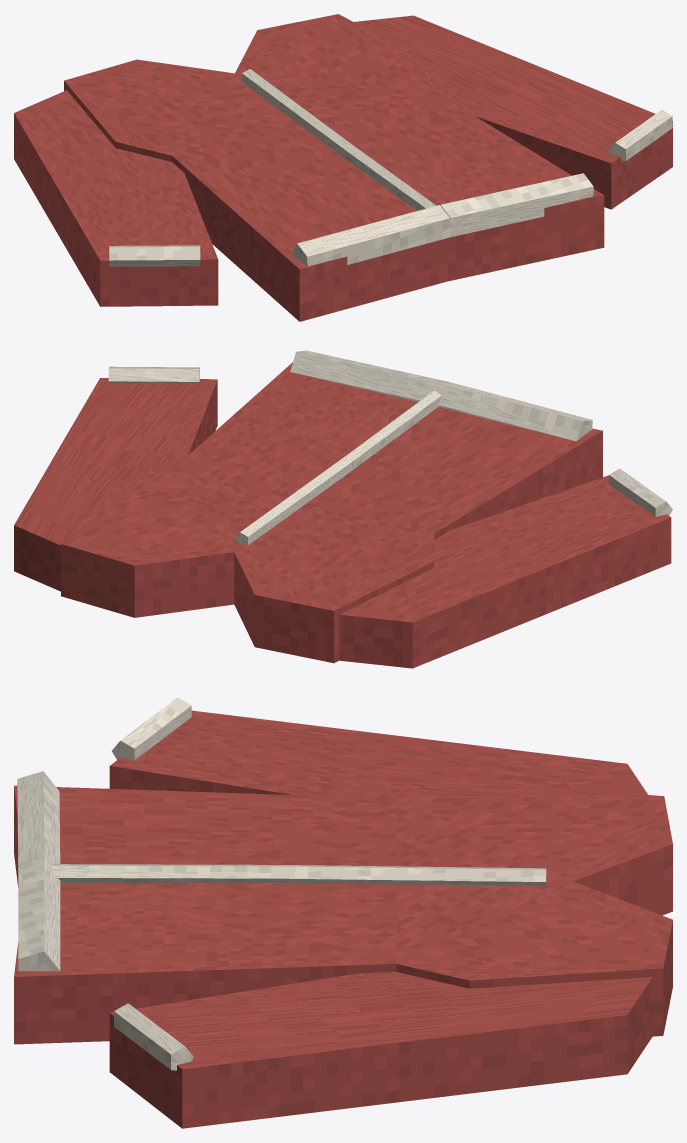
The model's file is santa_jacket.glb.
3 views of the same model, one above another, from view 1: azimuth 30°, elevation 25°; view 2: azimuth 150°, elevation 25°; view 3: azimuth 270°, elevation 25° (orthographic). The views are drawn at different scales.
Parts seen in each view (by area): view 1: block_garment body, block_sleeve (×2), block_hem trim 0, block_hem trim 1, block_cuff 0 (×2), block_front closure 0, block_front closure 1; view 2: block_garment body, block_sleeve (×2), block_hem trim 0, block_hem trim 1, block_cuff 0 (×2), block_front closure 0, block_front closure 1; view 3: block_garment body, block_sleeve (×2), block_front closure 0, block_hem trim 1, block_front closure 1, block_cuff 0 (×2), block_hem trim 0.
Boxes of the visible parts, left/top/right/bottom form: block_garment body: left=64, top=14, right=604, bottom=321; block_sleeve (×2): left=14, top=15, right=672, bottom=306; block_hem trim 0: left=291, top=205, right=450, bottom=266; block_hem trim 1: left=440, top=173, right=593, bottom=237; block_cuff 0 (×2): left=109, top=110, right=672, bottom=266; block_front closure 0: left=242, top=69, right=349, bottom=155; block_front closure 1: left=341, top=143, right=436, bottom=210; block_garment body: left=61, top=362, right=602, bottom=663; block_sleeve (×2): left=14, top=378, right=671, bottom=668; block_hem trim 0: left=437, top=382, right=592, bottom=441; block_hem trim 1: left=290, top=350, right=448, bottom=401; block_cuff 0 (×2): left=108, top=366, right=672, bottom=516; block_front closure 0: left=235, top=457, right=352, bottom=545; block_front closure 1: left=345, top=390, right=441, bottom=469; block_garment body: left=14, top=781, right=672, bottom=1044; block_sleeve (×2): left=109, top=710, right=652, bottom=1128; block_front closure 0: left=283, top=865, right=546, bottom=885; block_hem trim 1: left=18, top=857, right=60, bottom=971; block_front closure 1: left=50, top=864, right=282, bottom=883; block_cuff 0 (×2): left=112, top=697, right=193, bottom=1070; block_hem trim 0: left=17, top=771, right=60, bottom=864.
Size of the model in its own units: 0.7743 by 0.0922 by 0.5992.
Materials: 1 (1 with a texture image).
